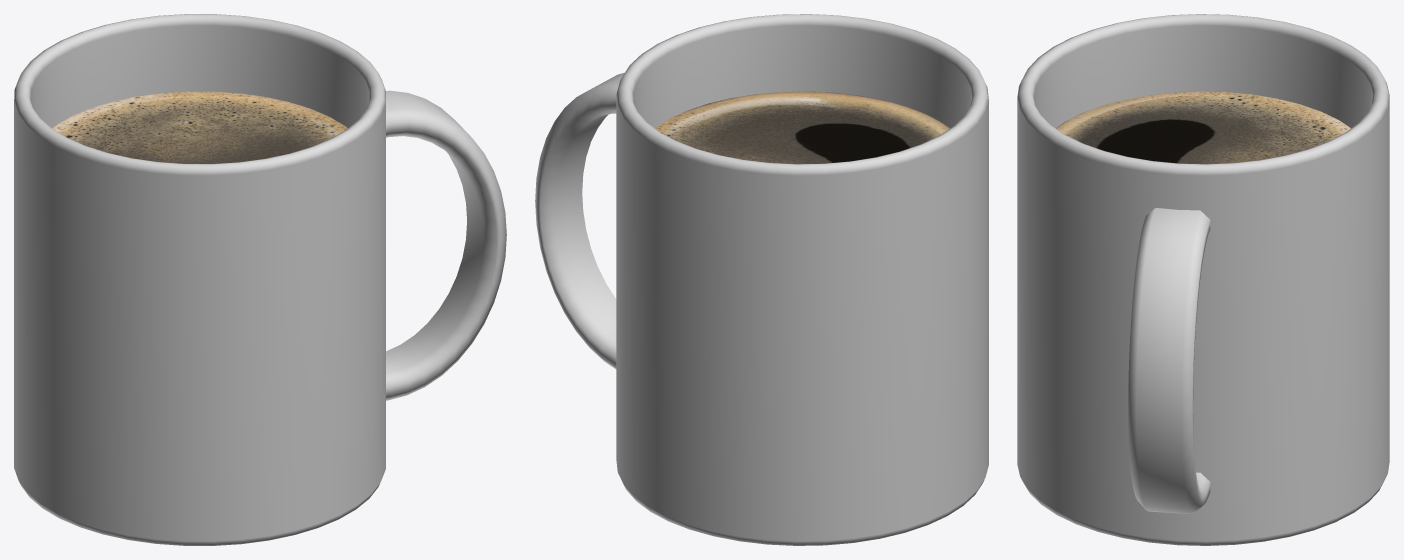
The model's file is large.obj.
3 views of the same model, side by side, from view 1: azimuth 30°, elevation 25°; view 2: azimuth 150°, elevation 25°; view 3: azimuth 270°, elevation 25° (orthographic).
Visible parts, largest first — view 1: Mug1; view 2: Mug1; view 3: Mug1.
Part boxes in pixels (x1,y1,x2,y2): Mug1: (14,14,506,545); Mug1: (535,14,988,545); Mug1: (1017,14,1389,545).
Size of the model in its own units: 0.111 by 0.092 by 0.0814.
Materials: 2 (1 with a texture image).
